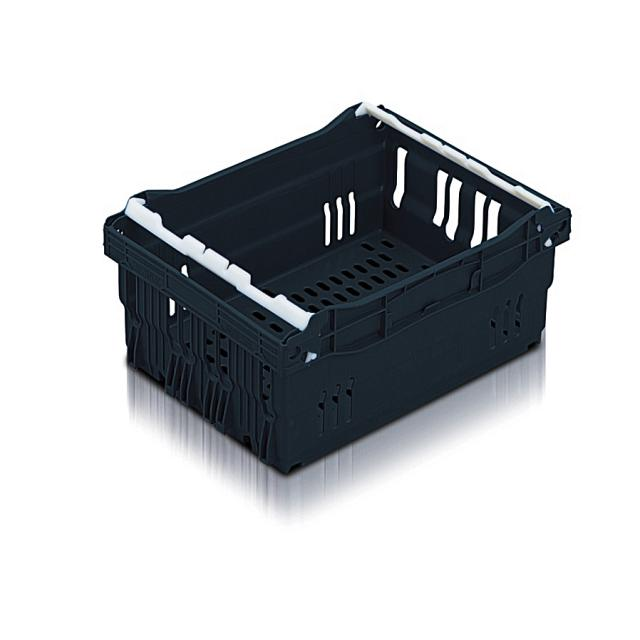basket: (61, 22, 619, 516), (428, 368, 433, 372)
